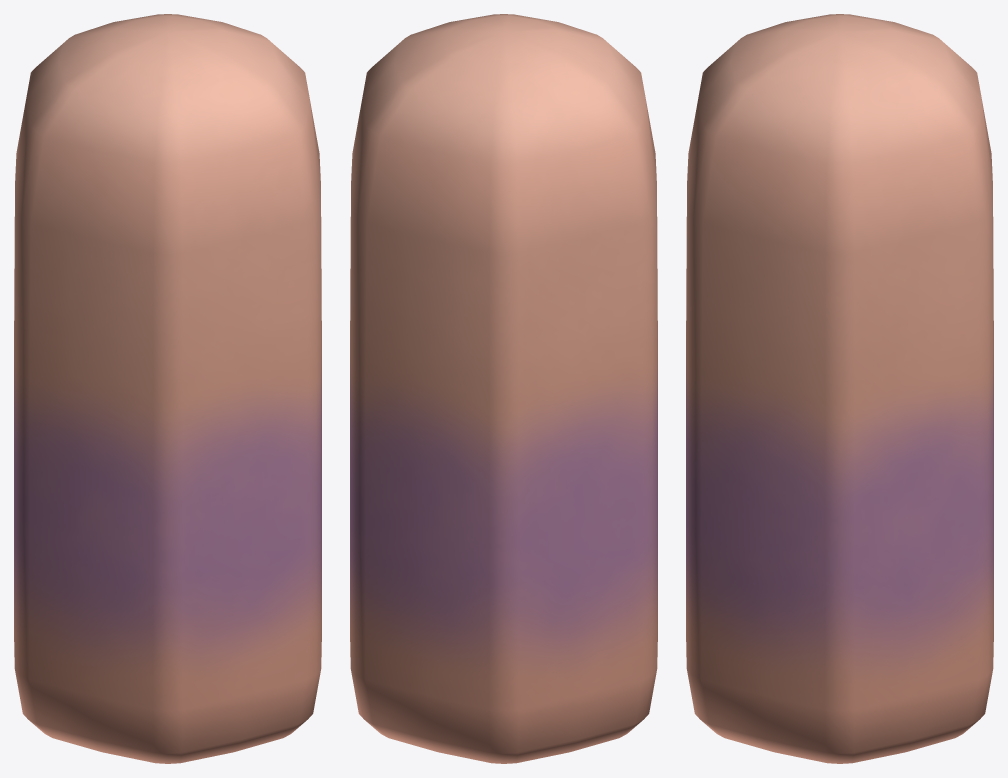
The model's file is Cell_Mutant.fbx.
The picture shows the model from 3 angles, left to right: view 1: azimuth 30°, elevation 25°; view 2: azimuth 150°, elevation 25°; view 3: azimuth 270°, elevation 25°; orthographic projection.
Visible parts, largest first — view 1: Cell_Mutant; view 2: Cell_Mutant; view 3: Cell_Mutant.
Part boxes in pixels (bbox=[...]): Cell_Mutant: bbox=[14, 14, 321, 763]; Cell_Mutant: bbox=[350, 14, 657, 763]; Cell_Mutant: bbox=[686, 14, 993, 763].
Size of the model in its own units: 0.6665 by 1.45 by 0.6.
